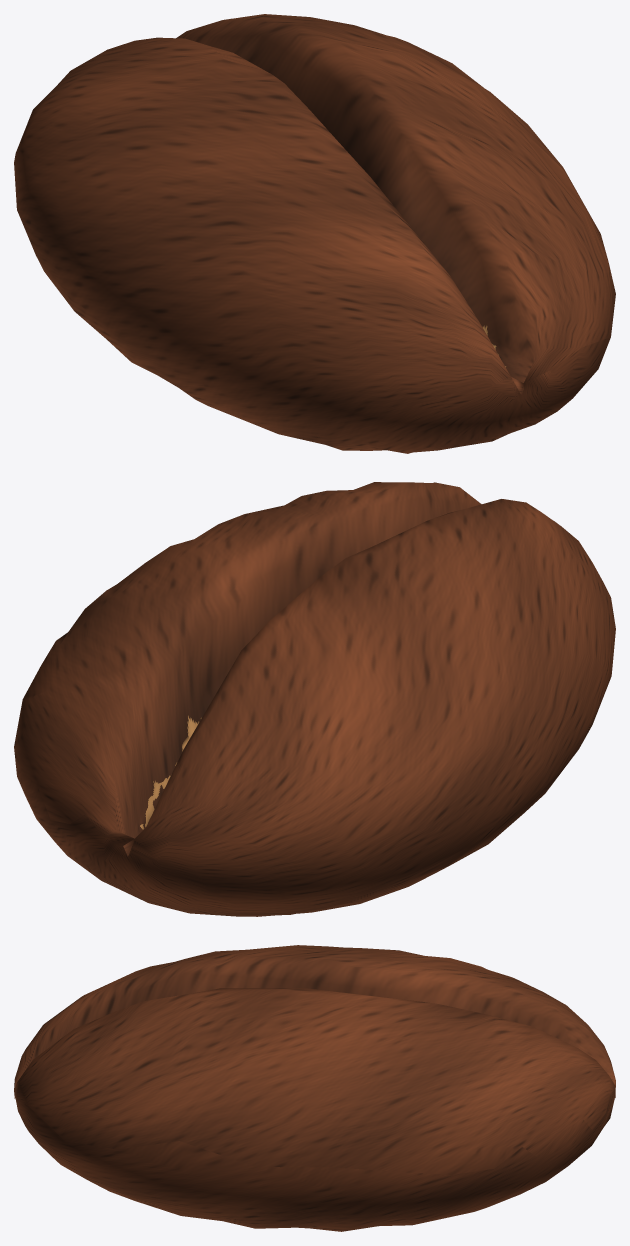
Rendered from bean.glb.
3 views of the same model, one above another, from view 1: azimuth 30°, elevation 25°; view 2: azimuth 150°, elevation 25°; view 3: azimuth 270°, elevation 25° (orthographic). The views are drawn at different scales.
Visible parts, largest first — view 1: Arabica bean - sculpted center crease; view 2: Arabica bean - sculpted center crease; view 3: Arabica bean - sculpted center crease.
Part boxes in pixels (bbox=[...]): Arabica bean - sculpted center crease: bbox=[14, 14, 615, 453]; Arabica bean - sculpted center crease: bbox=[14, 482, 615, 916]; Arabica bean - sculpted center crease: bbox=[14, 945, 615, 1231].
Bounding box in the file's own units: 0.008 × 0.00533 × 0.0124.
1 material, 1 textured.
